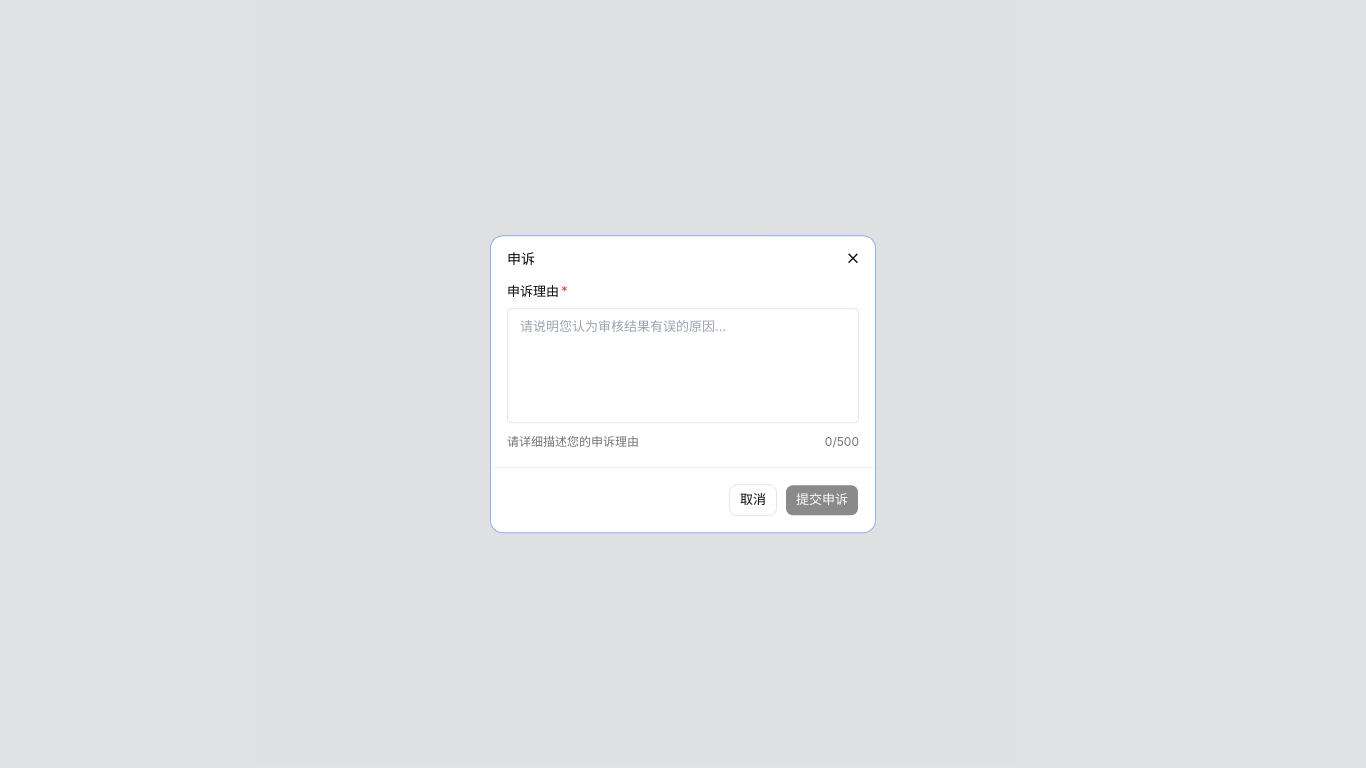
it: AppealDialog › status display › shows status after successful submission
The image size is (1366, 768).
Type "Valid reason for appeal." into the text box with placeholder "请说明您认为审核结果有误的原因..." at point(683, 366), box [507,308,859,423]
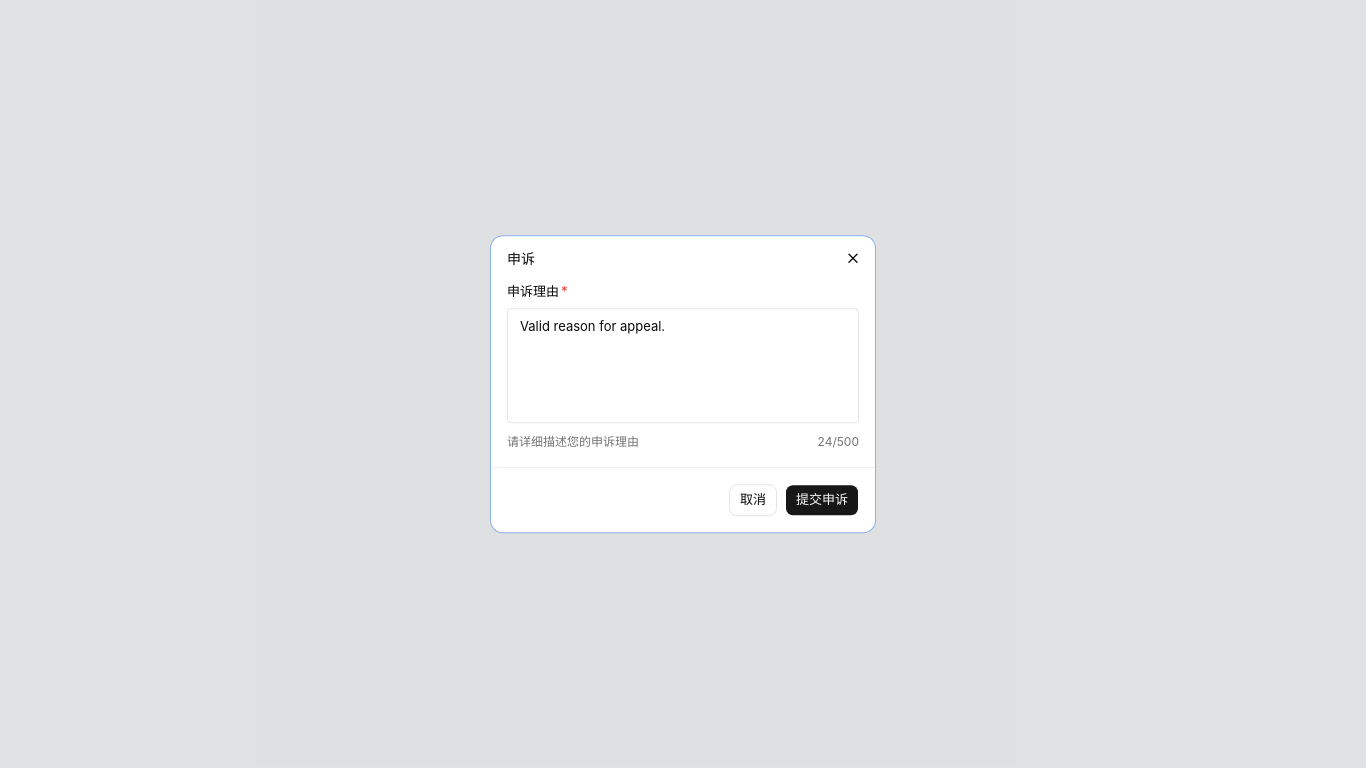
Click the button "提交申诉" at point(822, 500), box [785,484,859,516]
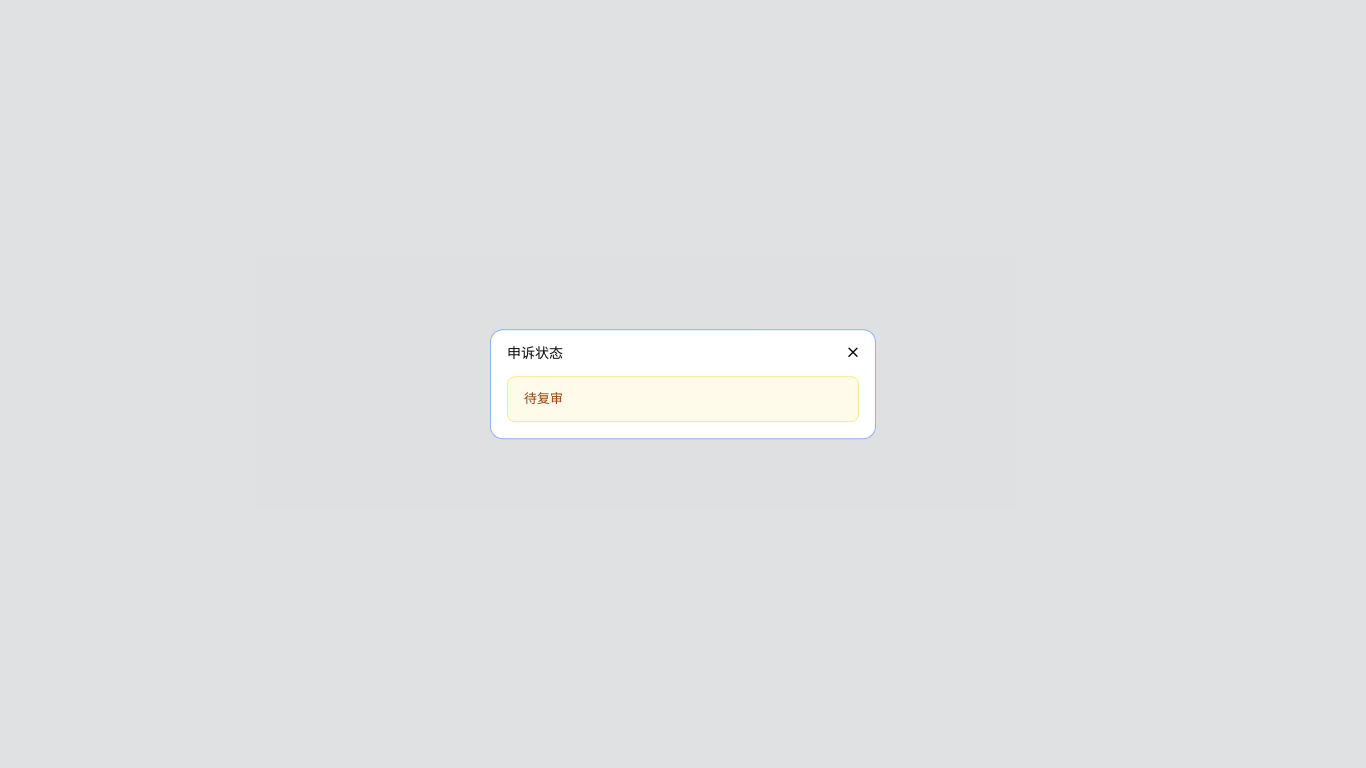
Expected: the text "待复审" is shown, [507,376,859,422]
